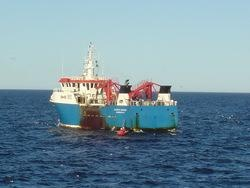Cargoship: (49, 39, 181, 135)
